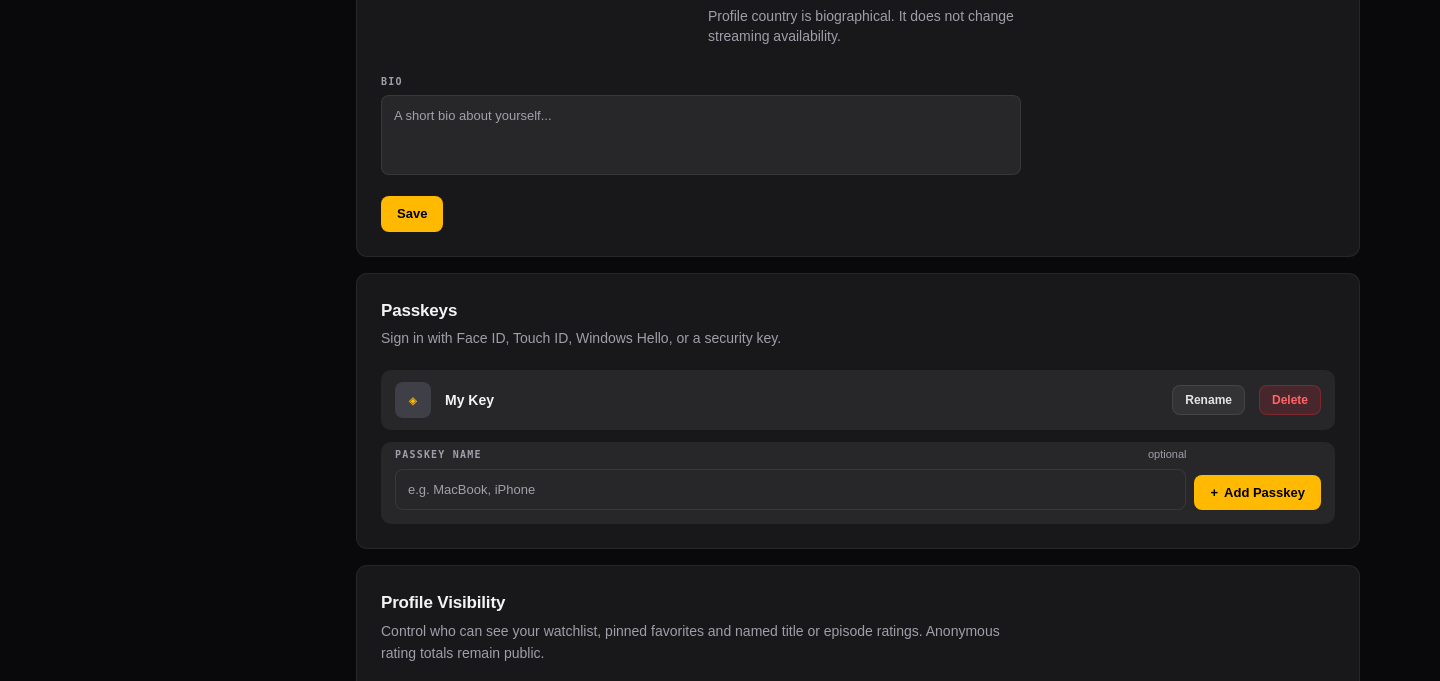
Scenario: PasskeySection › delete error: shows error message, clears success, list unchanged
(page scrolled)
Expected: the text "My Key" is shown, [445,392,494,408]
Click the button "Delete" at (1290, 400), box [1259,385,1321,415]
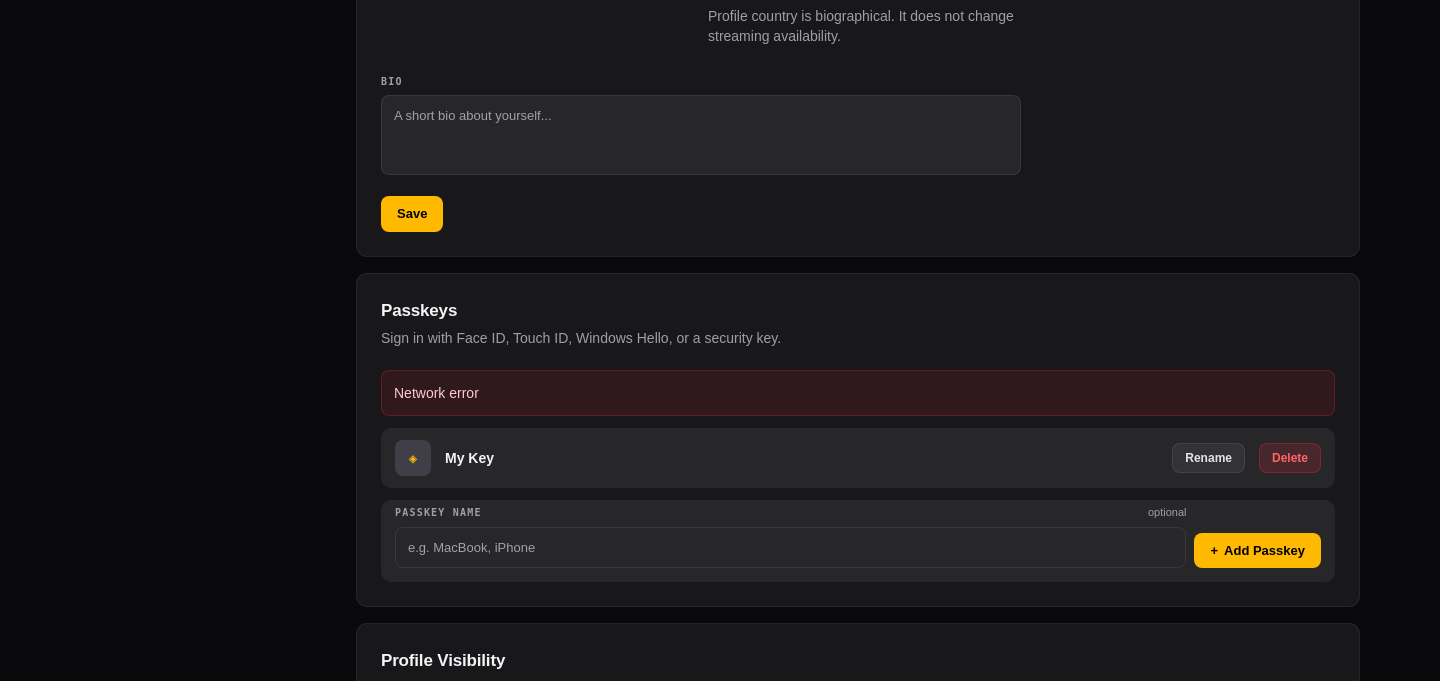
Expected: the text "My Key" is shown, [445,450,494,466]
Expected: the text "Network error" is shown, [381,370,1335,416]
